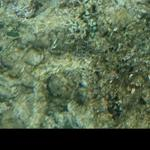dead: (1, 1, 147, 125)
